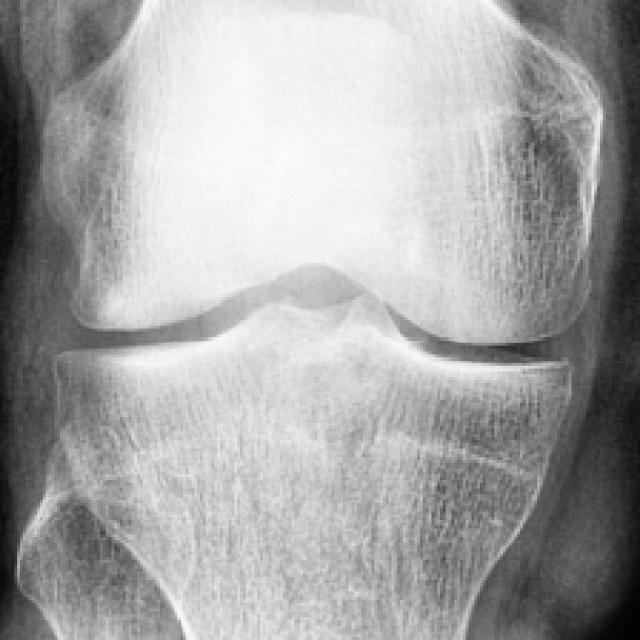femur: (43, 1, 607, 343)
tibia: (51, 300, 572, 640)
